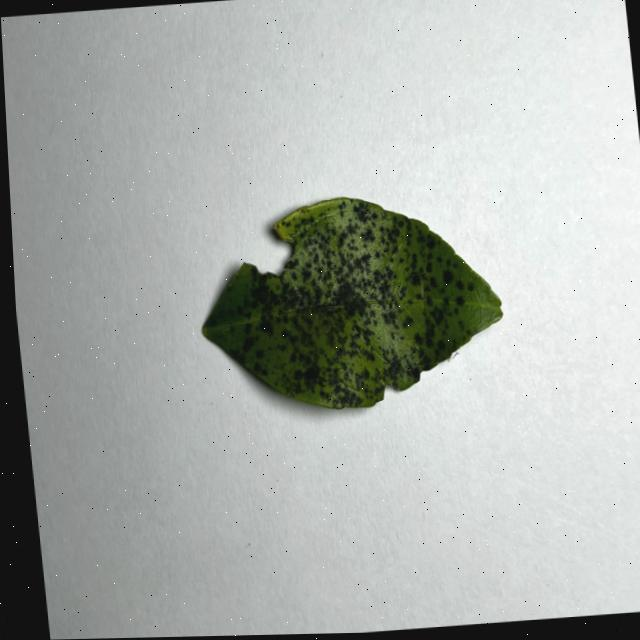sooty_mold: (202, 197, 502, 408)
